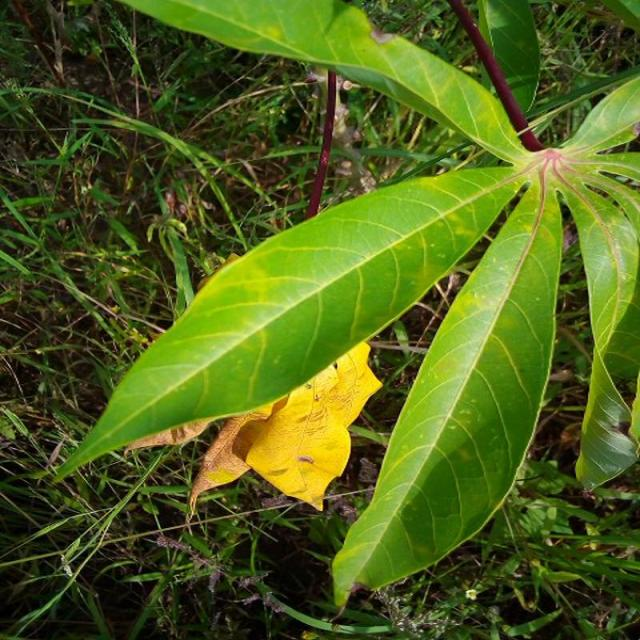cassava leaf: (52, 162, 530, 483), (330, 166, 562, 607), (188, 338, 382, 513)
